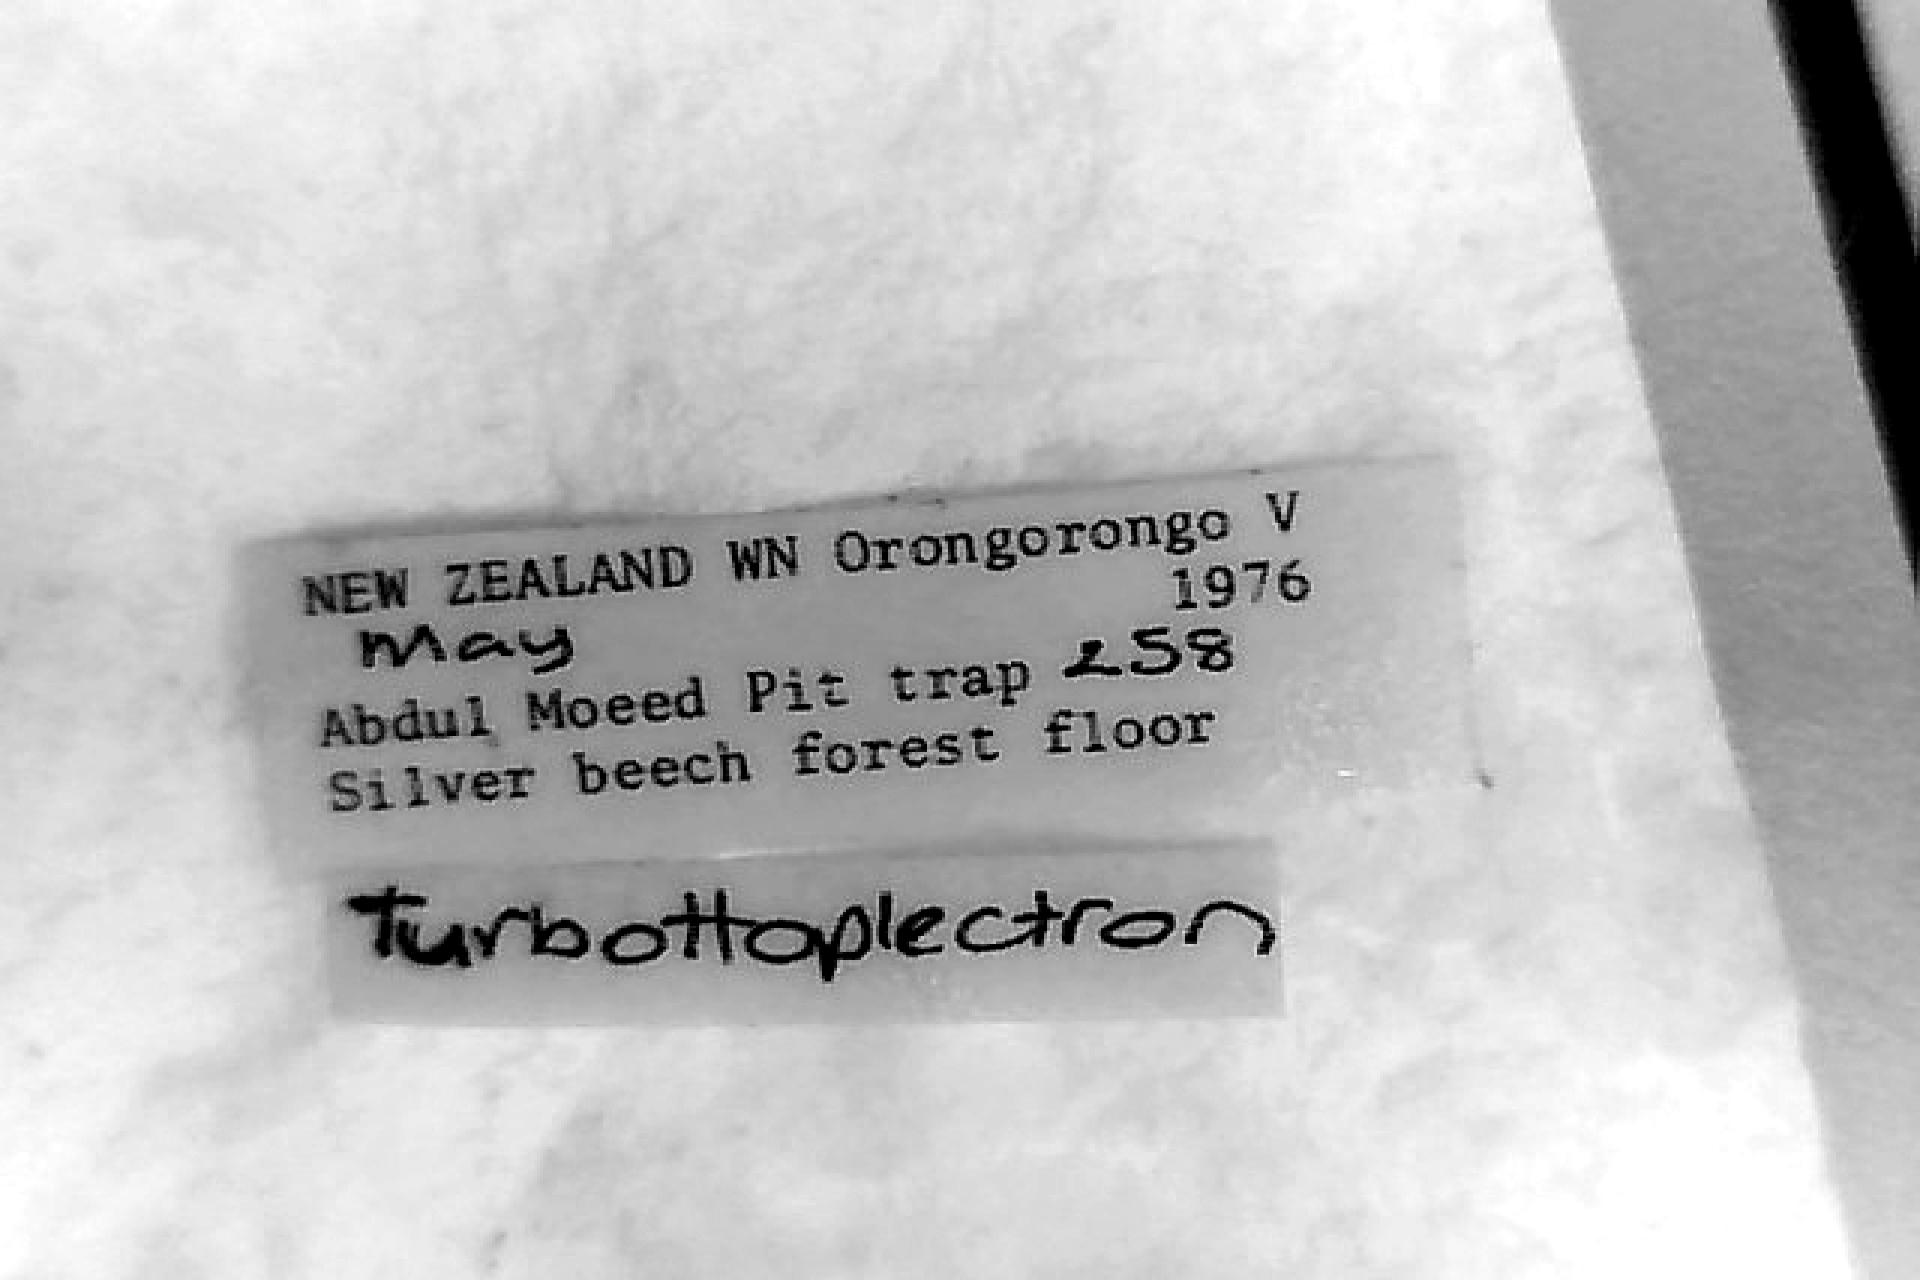hand_label: (330, 843, 1277, 1022)
mixed_label: (251, 460, 1474, 870)
